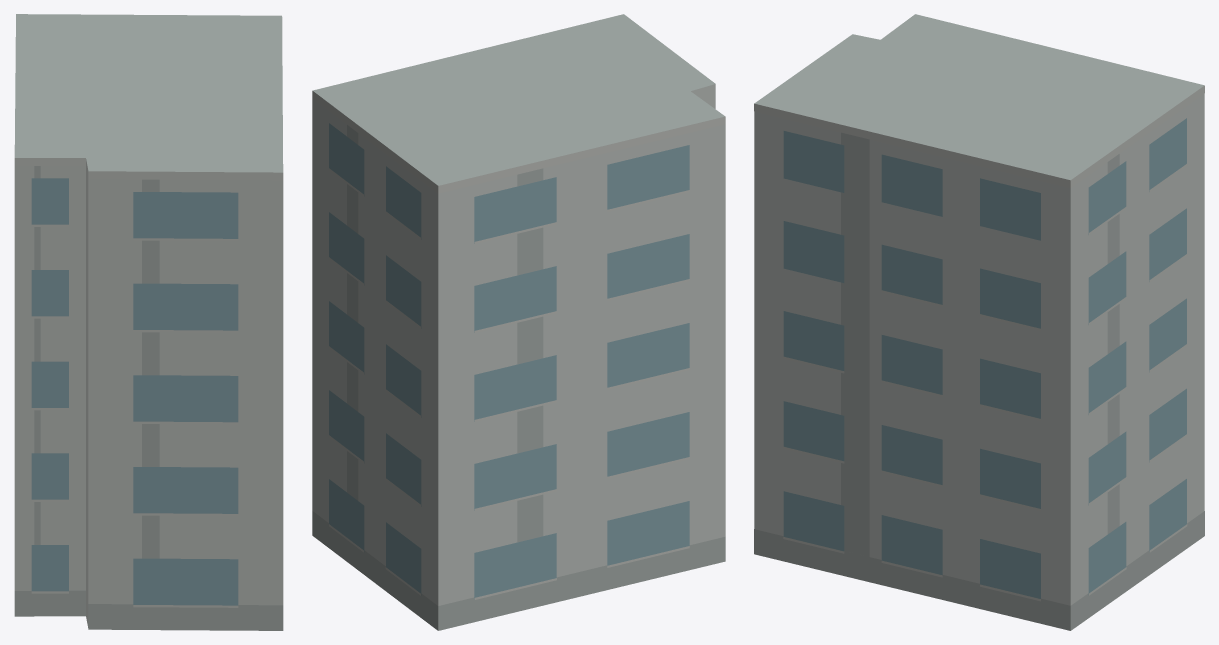
The model's file is survey-upis-32729337.glb.
The picture shows the model from 3 angles, left to right: view 1: azimuth 30°, elevation 25°; view 2: azimuth 150°, elevation 25°; view 3: azimuth 270°, elevation 25°; orthographic projection. The views are drawn at different scales.
Visible parts, largest first — view 1: survey-upis-32729337.tmp; view 2: survey-upis-32729337.tmp; view 3: survey-upis-32729337.tmp.
Boxes of the visible parts, <box> form: survey-upis-32729337.tmp: <box>14,14,283,630</box>; survey-upis-32729337.tmp: <box>312,14,725,630</box>; survey-upis-32729337.tmp: <box>754,14,1204,630</box>.
Size of the model in its own units: 11.01 by 13.9 by 12.61.
